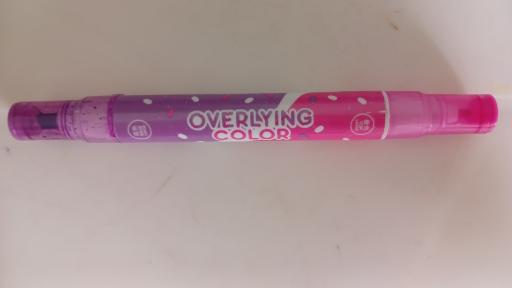Highlighter: (8, 90, 502, 144)
